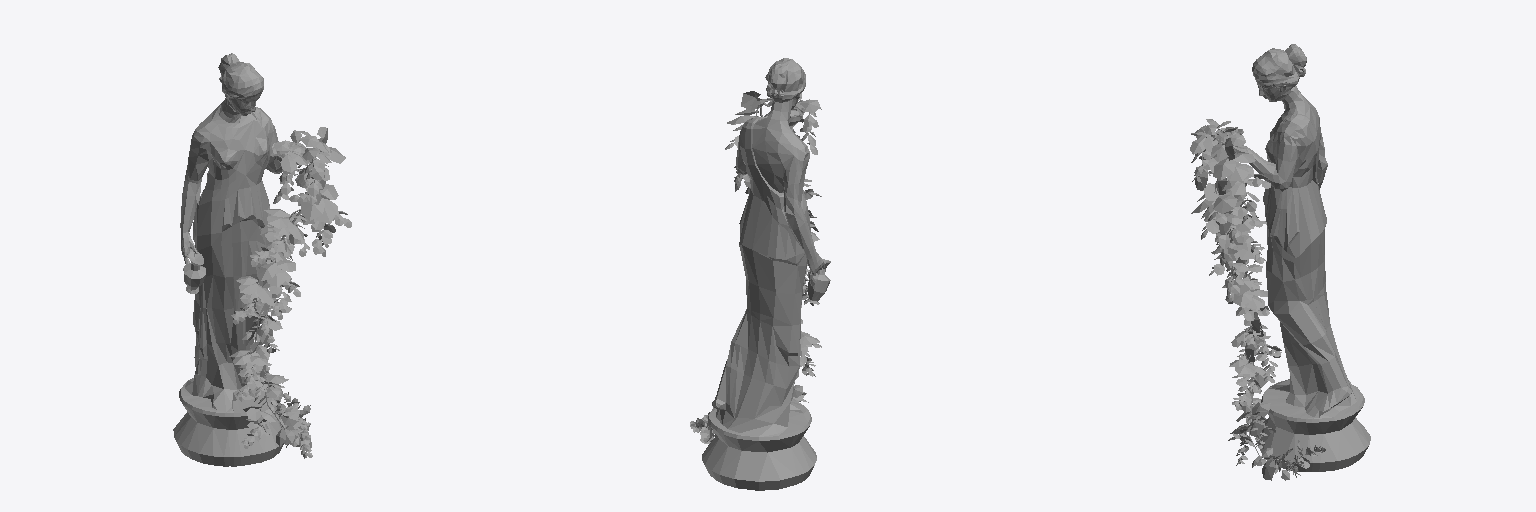
Rendered from statue.obj.
3 renders of one model, left to right at view 1: azimuth 30°, elevation 25°; view 2: azimuth 150°, elevation 25°; view 3: azimuth 270°, elevation 25°, orthographic.
Parts seen in each view (by area): view 1: statue; view 2: statue; view 3: statue.
Boxes of the visible parts, x1,y1,x2,y2 form: statue: [173, 53, 351, 466]; statue: [690, 58, 830, 490]; statue: [1190, 44, 1370, 480].
Bounding box in the file's own units: 6.59 × 19.02 × 7.83.